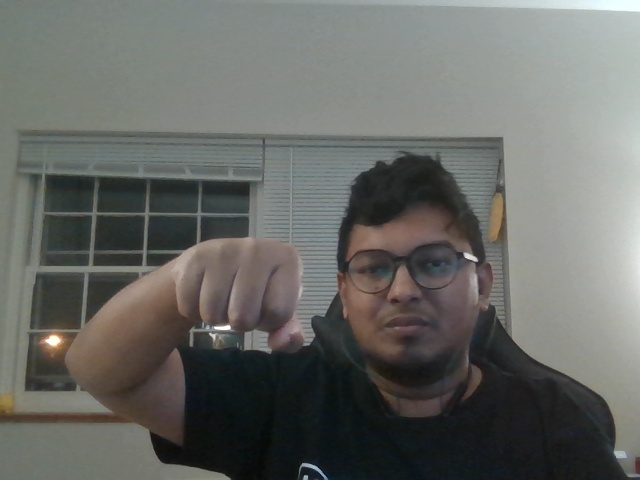yes: (134, 216, 327, 379)
